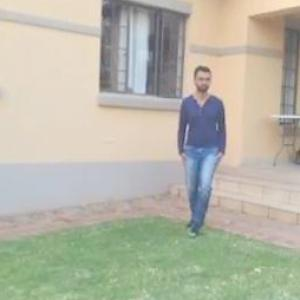follow: (175, 57, 228, 242)
